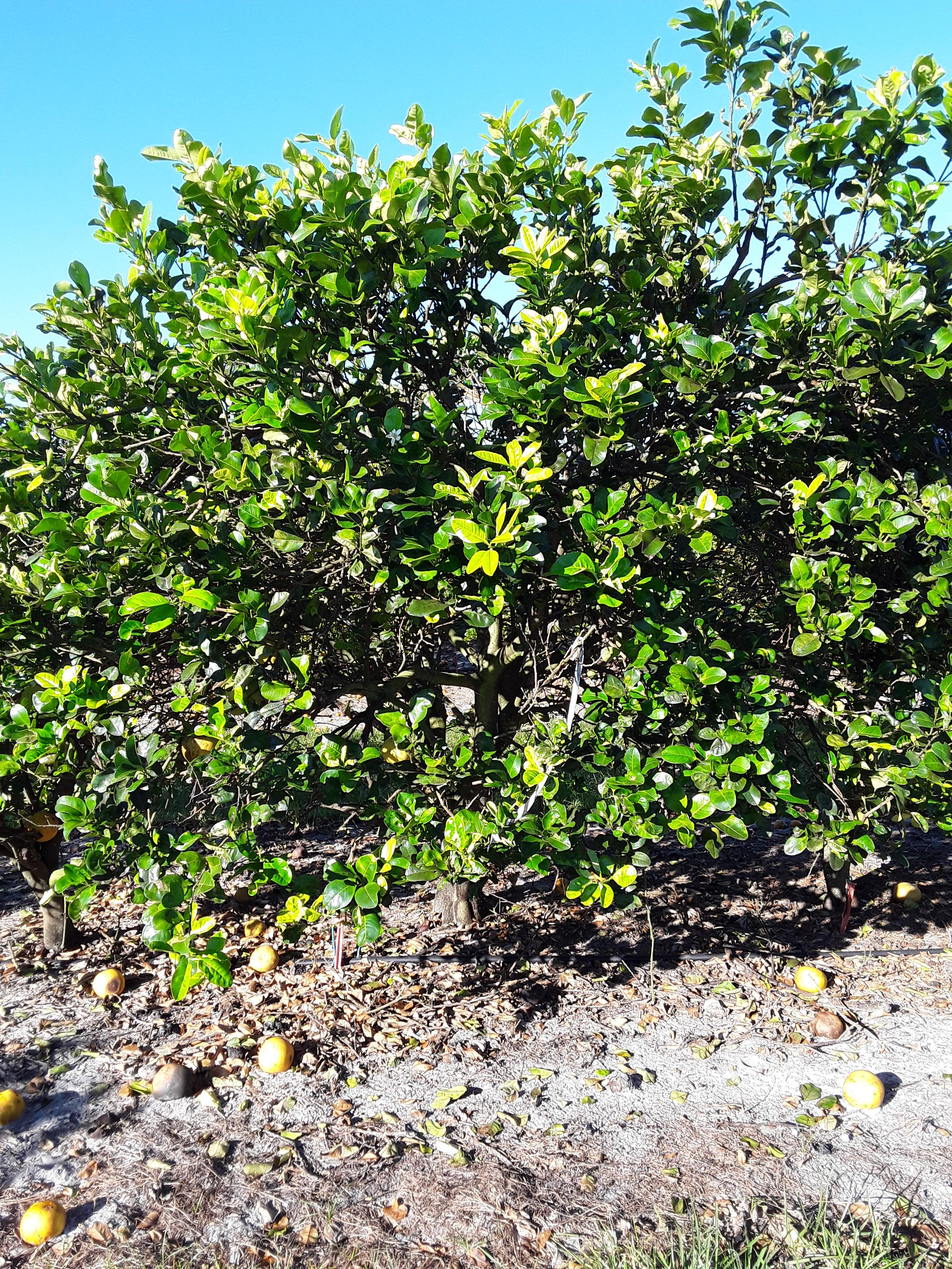fruit_on_ground: (178, 725, 233, 767), (378, 733, 426, 767), (24, 807, 63, 843)
fruit_on_tree: (18, 1197, 72, 1249), (841, 1069, 893, 1112), (150, 1060, 198, 1103), (257, 1031, 296, 1081), (89, 967, 128, 1000), (249, 938, 280, 975), (891, 879, 929, 908), (0, 1087, 28, 1125), (795, 963, 828, 995), (812, 1009, 846, 1040), (243, 918, 273, 939), (550, 877, 575, 896), (231, 886, 257, 903), (290, 846, 311, 860), (773, 816, 789, 832), (789, 818, 807, 832)
